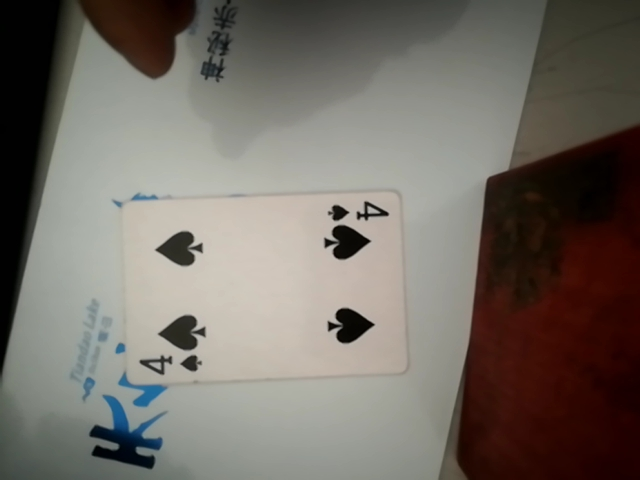ht 4: (118, 187, 415, 388)
